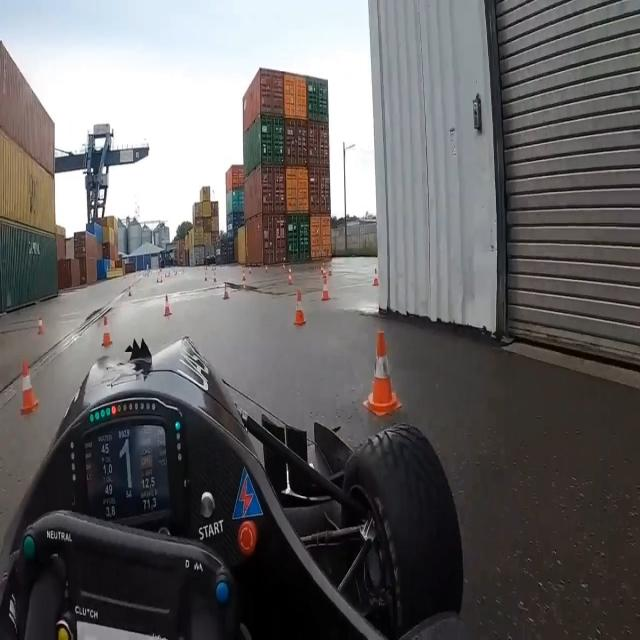Orange cone: (356, 316, 405, 443), (13, 356, 37, 430), (285, 282, 311, 347), (240, 254, 272, 293), (159, 282, 179, 339), (96, 314, 116, 365), (315, 256, 333, 312), (31, 310, 51, 344), (369, 258, 381, 297), (223, 274, 237, 307), (283, 265, 298, 291), (122, 281, 136, 307)
